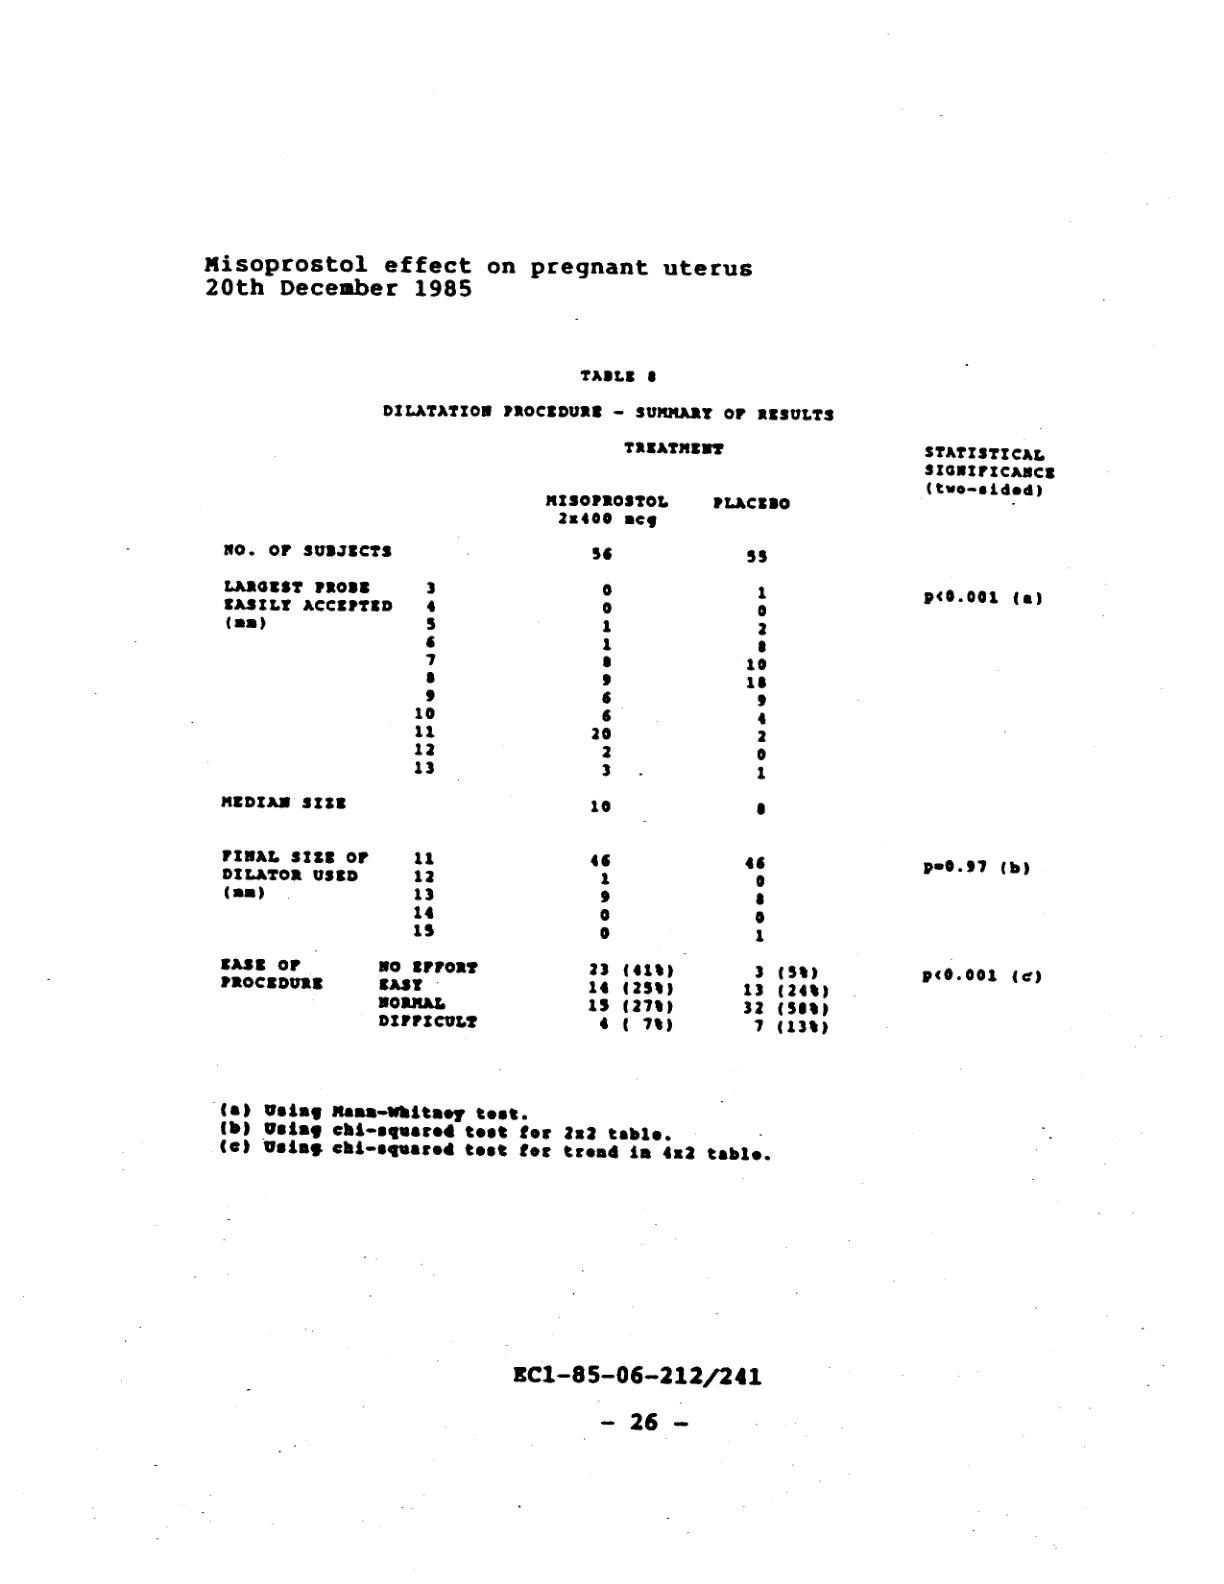nolines: (216, 438, 1056, 1034)
